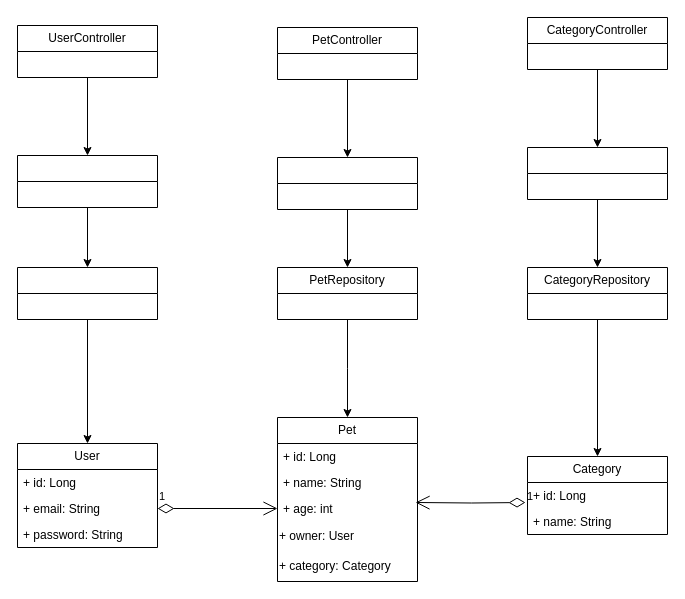
The diagram is 685 pixels wide and 599 high, and some of its shapes have lost their labels. Each missing label, with the centre of its shape:
CategoryService: the point at 597,173
PetService: the point at 347,183
UserRepository: the point at 87,293
UserService: the point at 87,181
